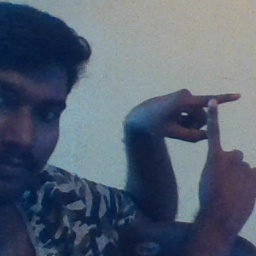T: (158, 81, 256, 187)
